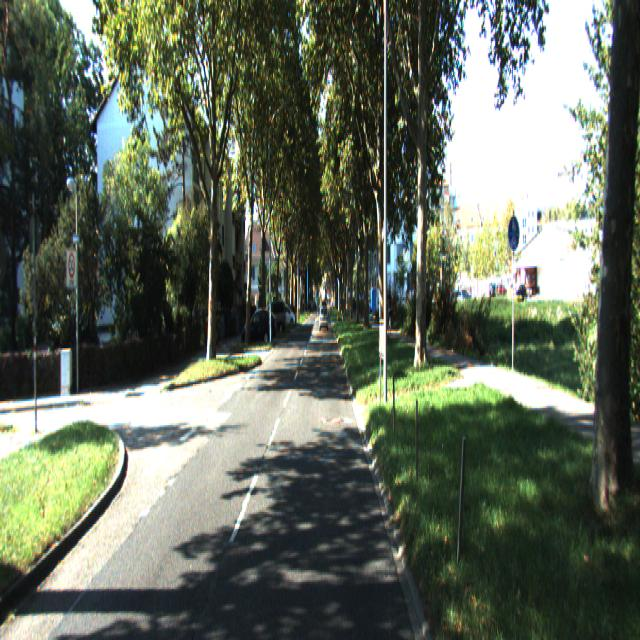Car: (244, 305, 274, 344)
